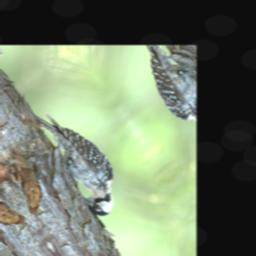Woodpecker: (25, 93, 134, 221)
